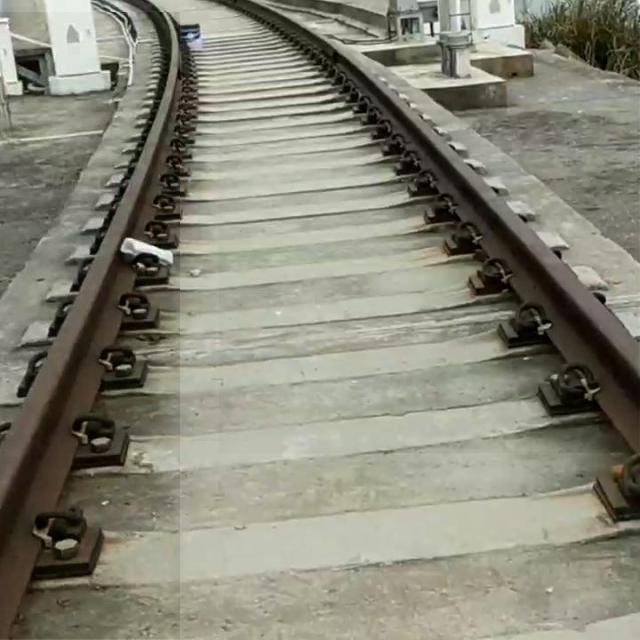rail: (220, 1, 640, 454), (1, 13, 181, 640)
